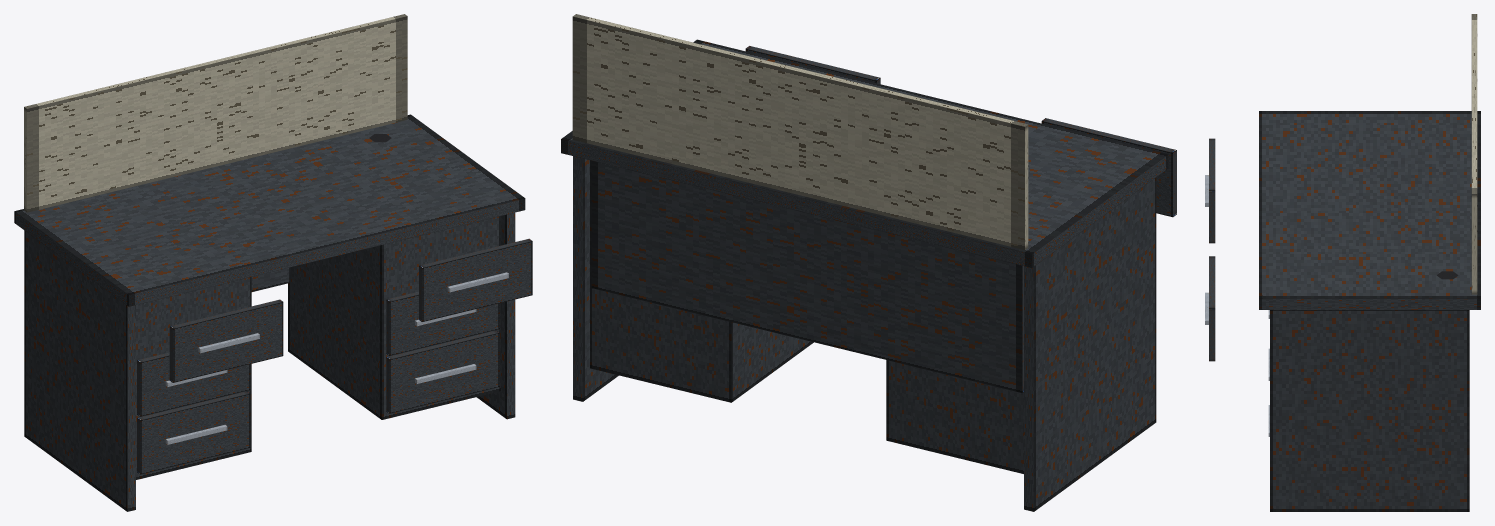
The model's file is office_desk.glb.
3 renders of one model, left to right at view 1: azimuth 30°, elevation 25°; view 2: azimuth 150°, elevation 25°; view 3: azimuth 270°, elevation 25°, orthographic. The views are drawn at different scales.
Parts seen in each view (by area): view 1: bn_office_desk_1337; view 2: bn_office_desk_1337; view 3: bn_office_desk_1337.
Part boxes in pixels (bbox=[...]): bn_office_desk_1337: bbox=[14, 14, 532, 511]; bn_office_desk_1337: bbox=[561, 14, 1176, 511]; bn_office_desk_1337: bbox=[1205, 14, 1480, 511].
Size of the model in its own units: 1.4 by 1.1 by 0.8695.
5 materials, 5 textured.
